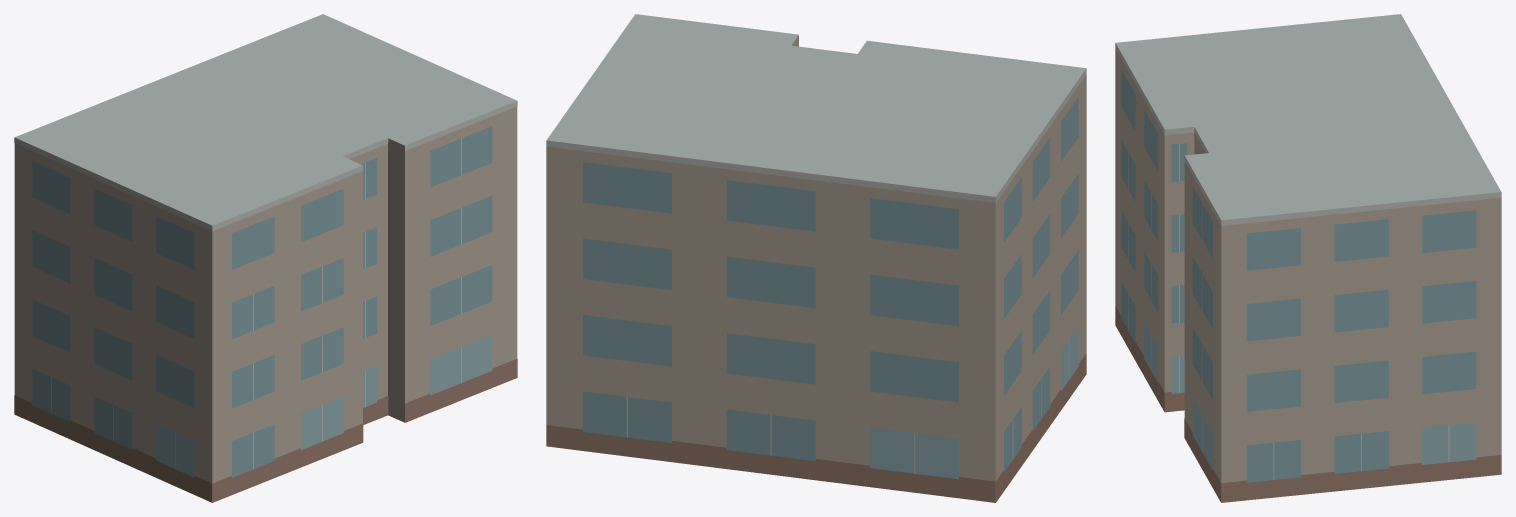
Rendered from residential-7f5afa3a-f987-4731-a5d3-c857e38e8e24.glb.
3 renders of one model, left to right at view 1: azimuth 30°, elevation 25°; view 2: azimuth 150°, elevation 25°; view 3: azimuth 270°, elevation 25°, orthographic. The views are drawn at different scales.
Visible parts, largest first — view 1: residential-7f5afa3a-f987-4731-a5d3-c857e38e8e24.tmp; view 2: residential-7f5afa3a-f987-4731-a5d3-c857e38e8e24.tmp; view 3: residential-7f5afa3a-f987-4731-a5d3-c857e38e8e24.tmp.
Boxes of the visible parts, bbox=[...] form: residential-7f5afa3a-f987-4731-a5d3-c857e38e8e24.tmp: bbox=[14, 14, 517, 502]; residential-7f5afa3a-f987-4731-a5d3-c857e38e8e24.tmp: bbox=[546, 14, 1086, 502]; residential-7f5afa3a-f987-4731-a5d3-c857e38e8e24.tmp: bbox=[1115, 14, 1501, 502].
Bounding box in the file's own units: 19.12 × 12.2 × 15.12.
